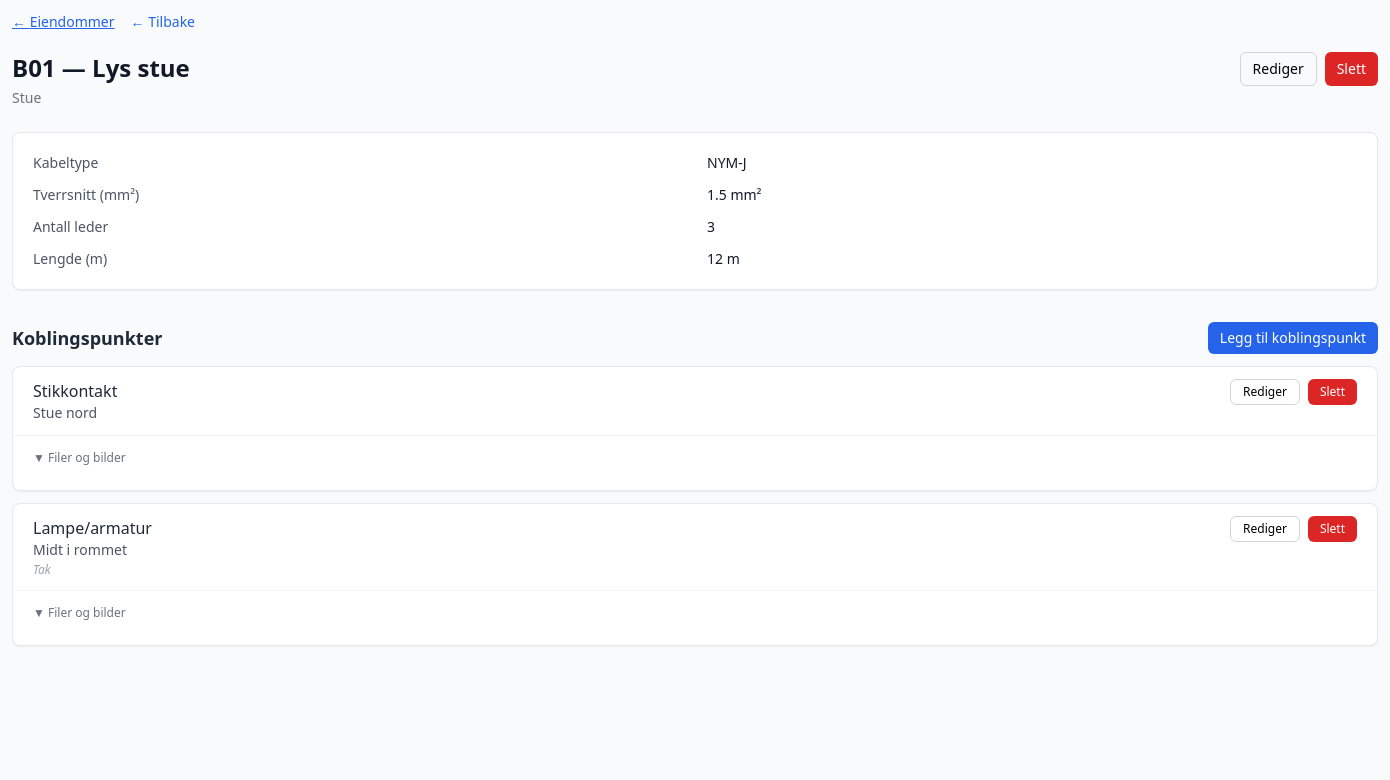
it: CircuitDetail — file upload › has file input with data-testid="file-input" in files section
What coordinates should you click on to do the following:
click the button "▼ Filer og bilder" below "Stikkontakt"
I would click on:
 (79, 458)
Its box is [33,450,126,466].
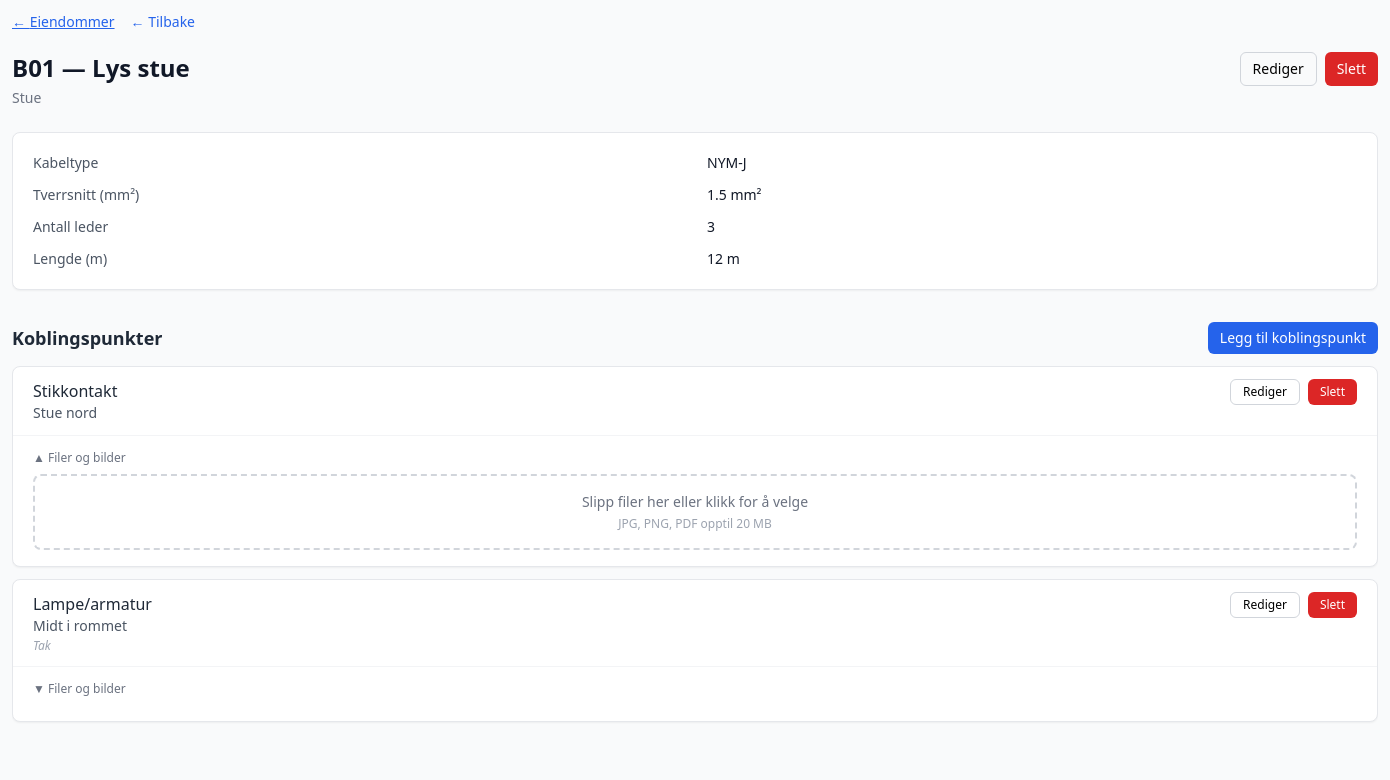
Now the element with test id "file-input" is shown, box [33,474,1357,550]
